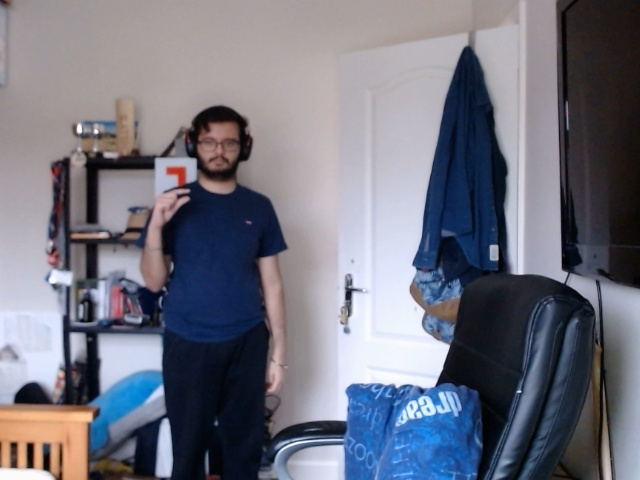Small: (145, 180, 198, 222)
